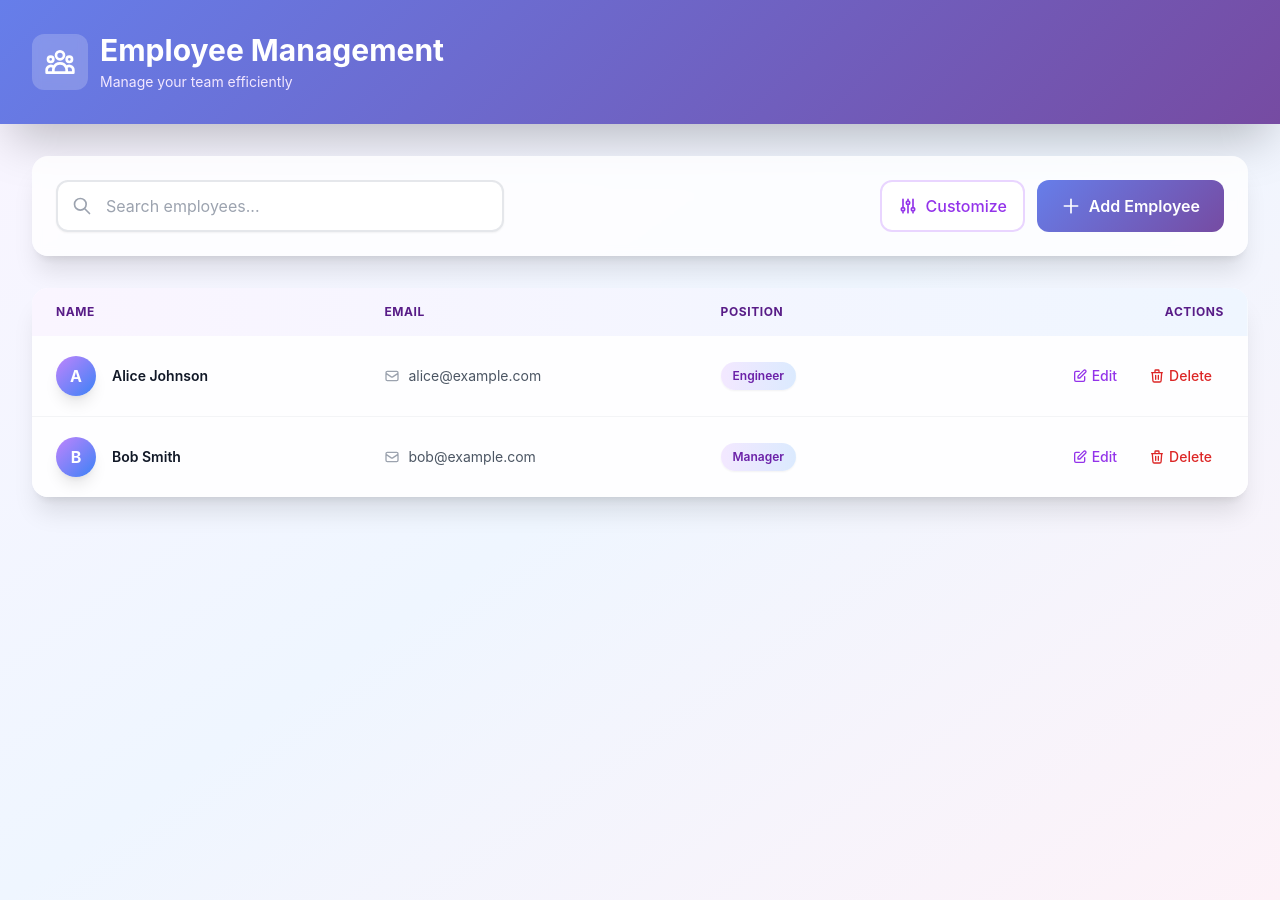
Test: EmployeeListPage › should open add employee form when clicking add button
The width and height of the screenshot is (1280, 900).
Check: the text "Alice Johnson" is shown, box [112,366,208,386]
Click the button "Add Employee" at (1130, 206), box [1037,180,1224,232]
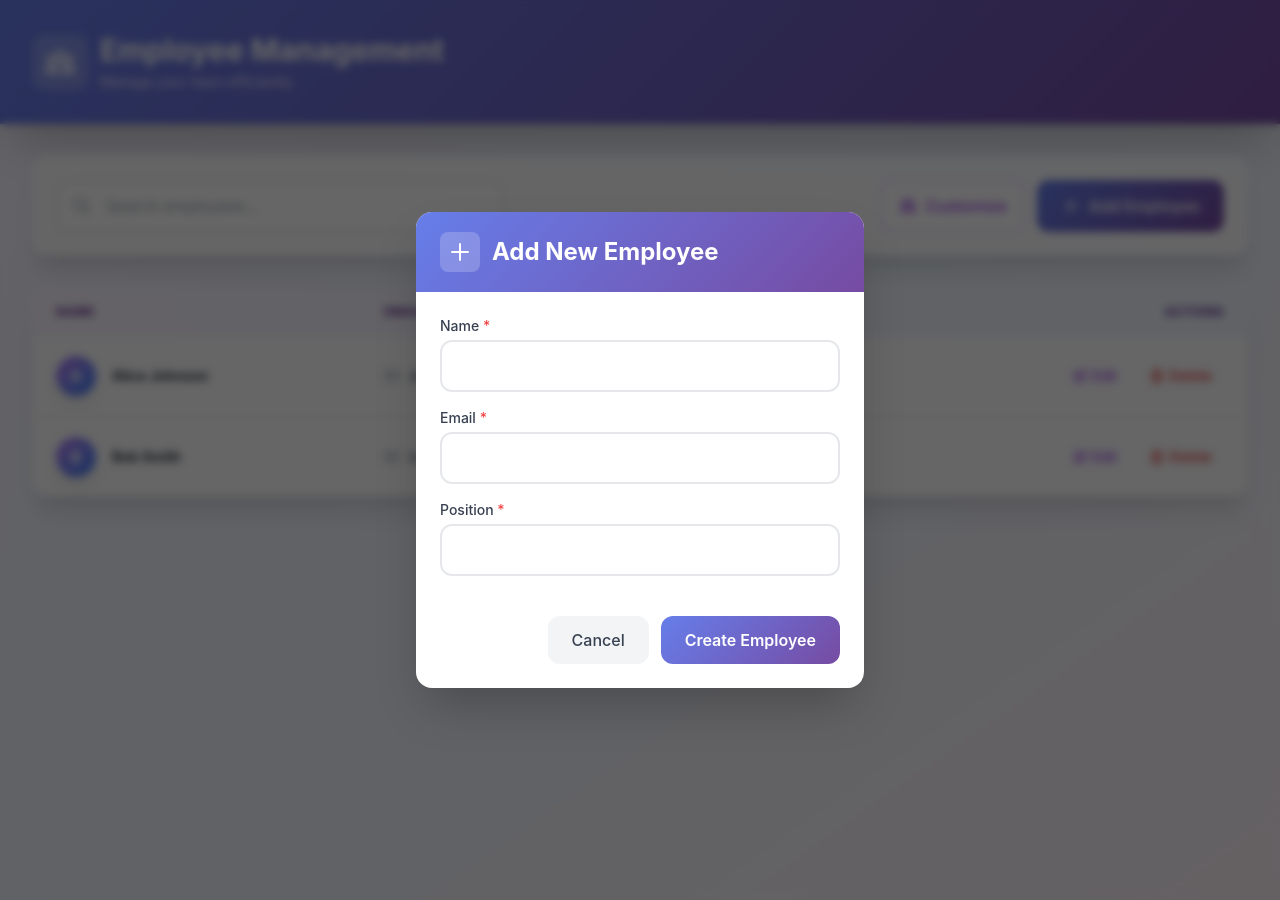
Check: the heading "Add New Employee" is shown, box [440,232,719,272]
